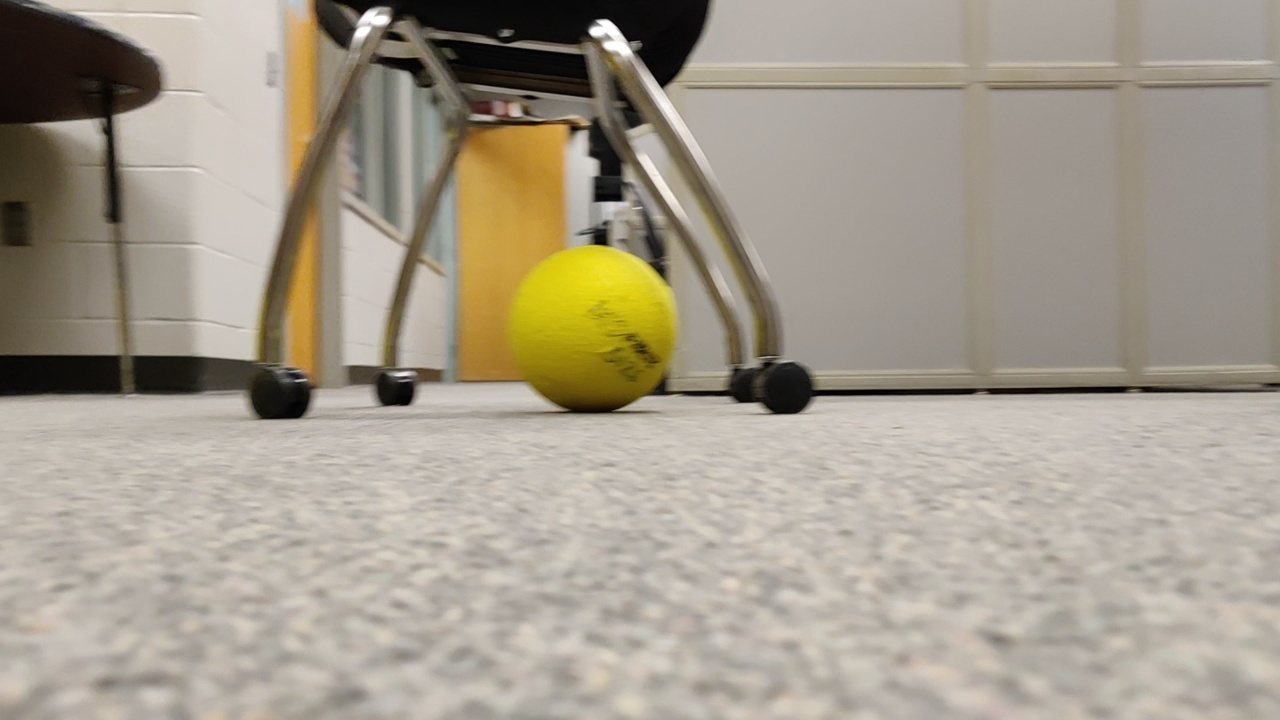Ball: (508, 241, 679, 421)
